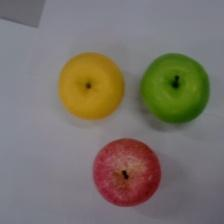green: (141, 53, 210, 124)
red: (93, 138, 162, 207)
yellow: (58, 52, 124, 119)
